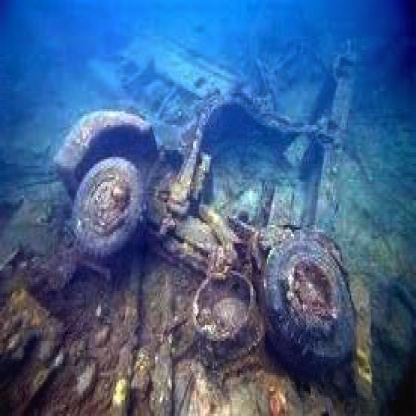metal: (47, 107, 160, 189)
tire: (260, 236, 352, 393), (83, 157, 149, 250)
